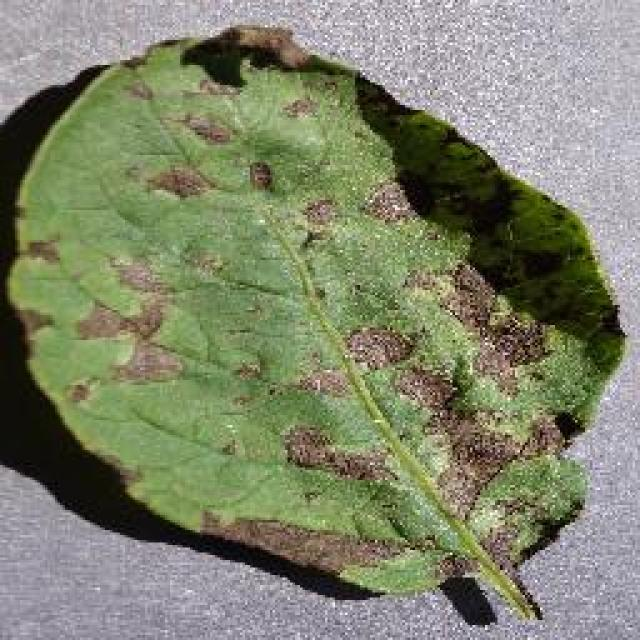early_blight: (2, 22, 630, 620)
